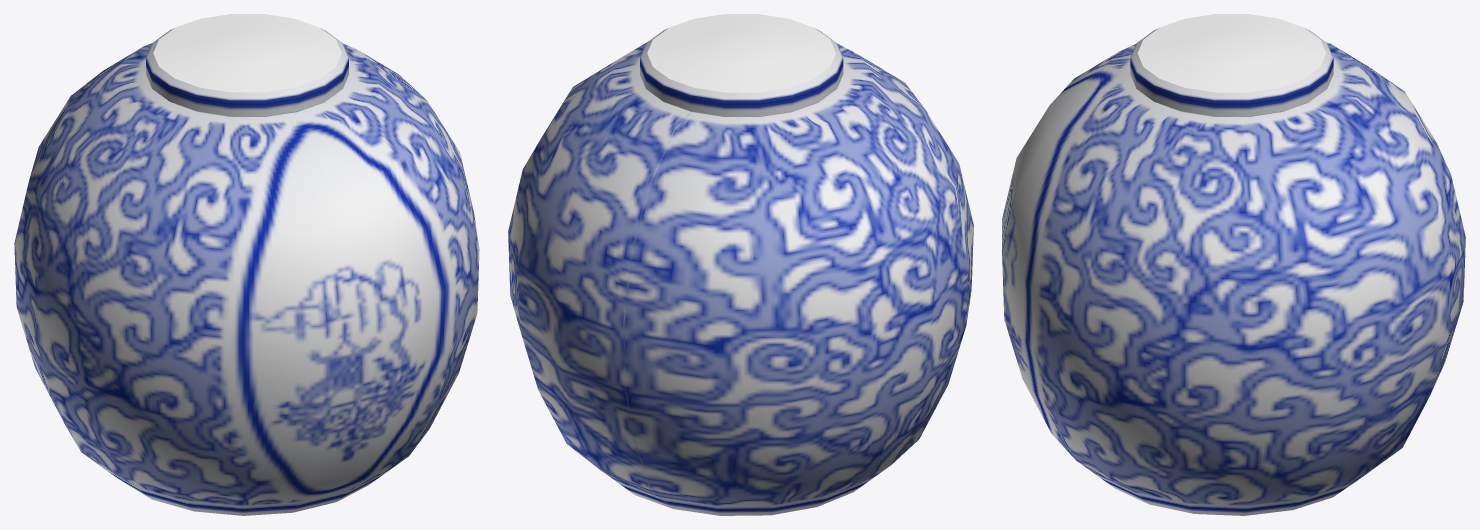
Rendered from Vase_China_Spherical_Closed.fbx.
The picture shows the model from 3 angles, left to right: view 1: azimuth 30°, elevation 25°; view 2: azimuth 150°, elevation 25°; view 3: azimuth 270°, elevation 25°; orthographic projection.
Parts seen in each view (by area): view 1: Vase_China_Spherical_Closed; view 2: Vase_China_Spherical_Closed; view 3: Vase_China_Spherical_Closed.
Part boxes in pixels (left/top/right/bottom): Vase_China_Spherical_Closed: left=14, top=14, right=479, bottom=515; Vase_China_Spherical_Closed: left=508, top=14, right=973, bottom=515; Vase_China_Spherical_Closed: left=1002, top=14, right=1465, bottom=515.
Size of the model in its own units: 56.82 by 56.74 by 56.57.
